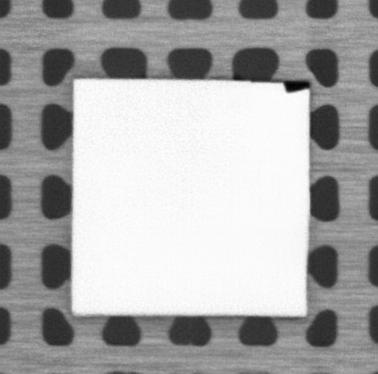DIE_BROKEN: (281, 78, 311, 93)
